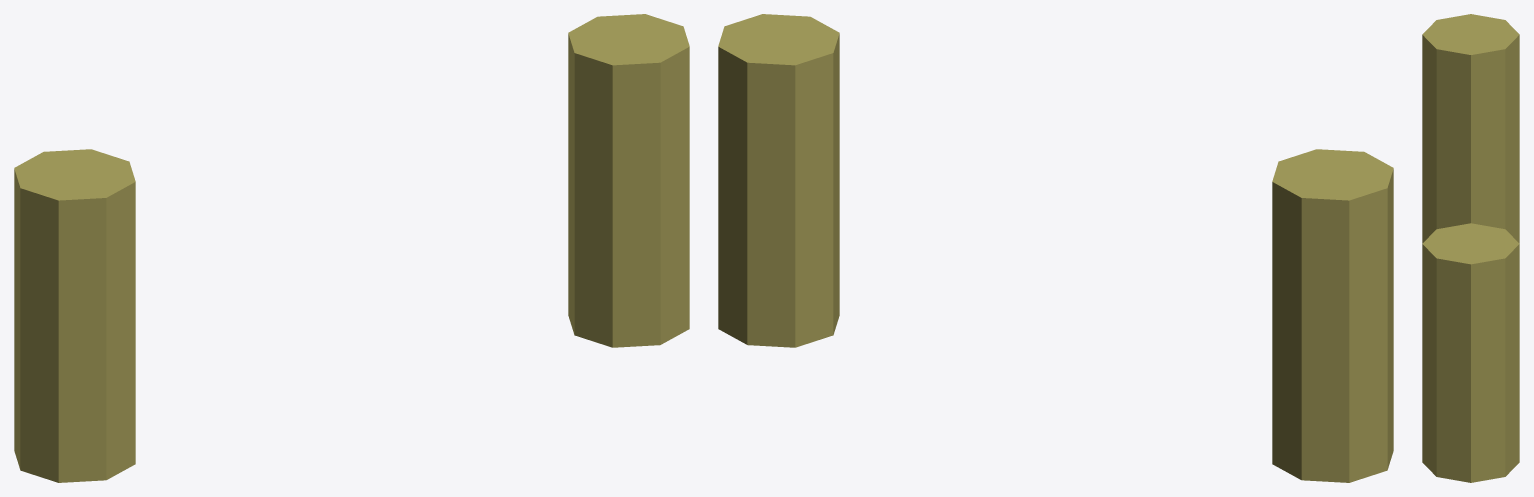
File: jettiposts_01.fbx
3 renders of one model, left to right at view 1: azimuth 30°, elevation 25°; view 2: azimuth 150°, elevation 25°; view 3: azimuth 270°, elevation 25°, orthographic. The views are drawn at different scales.
Parts seen in each view (by area): view 1: JettiPosts_01; view 2: JettiPosts_01; view 3: JettiPosts_01.
Boxes of the visible parts, x1,y1,x2,y2 form: JettiPosts_01: (14,14,689,482); JettiPosts_01: (718,14,1393,482); JettiPosts_01: (1422,14,1519,482).
Bounding box in the file's own units: 45.82 × 7.53 × 18.65.
